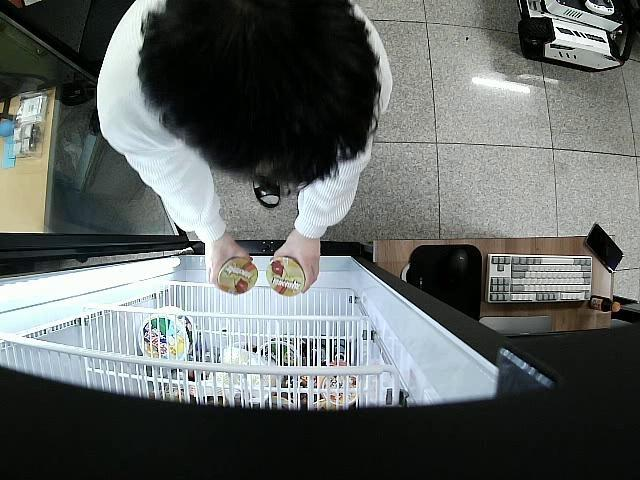04_chapagetti_S: (216, 256, 260, 295), (266, 258, 304, 296)
